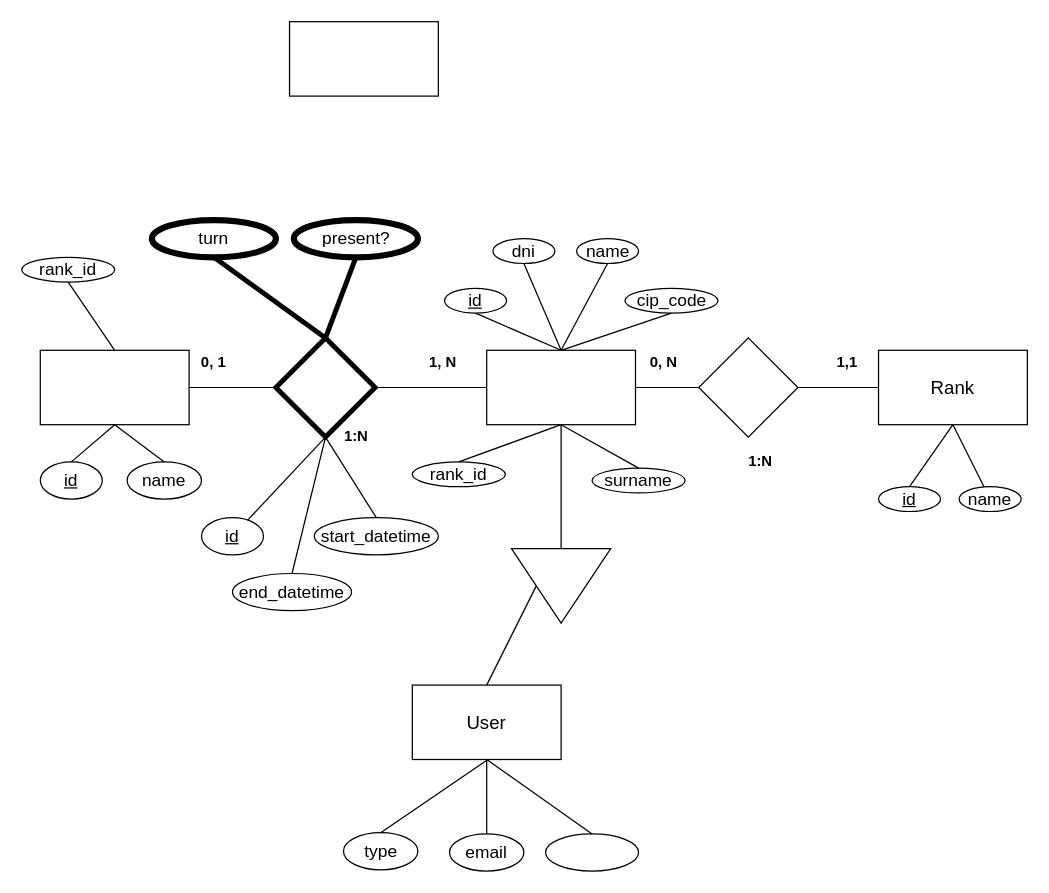
Some shapes in this 1049 by 893 pixel diagram are drawn without their labels. The shapes that lost their labels are listed below. From the top down, each one's box as (x1, y1, x2, y2) in pixels, then its label:
(288, 20, 438, 96): Availability
(39, 349, 189, 425): Task
(273, 335, 377, 439): Does
(485, 349, 636, 425): Person
(698, 337, 798, 437): has
(544, 833, 639, 871): password
